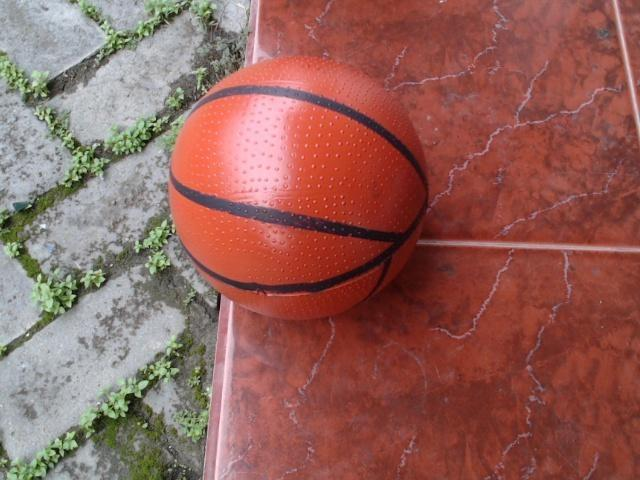Sports-Ball: (168, 54, 434, 326)
